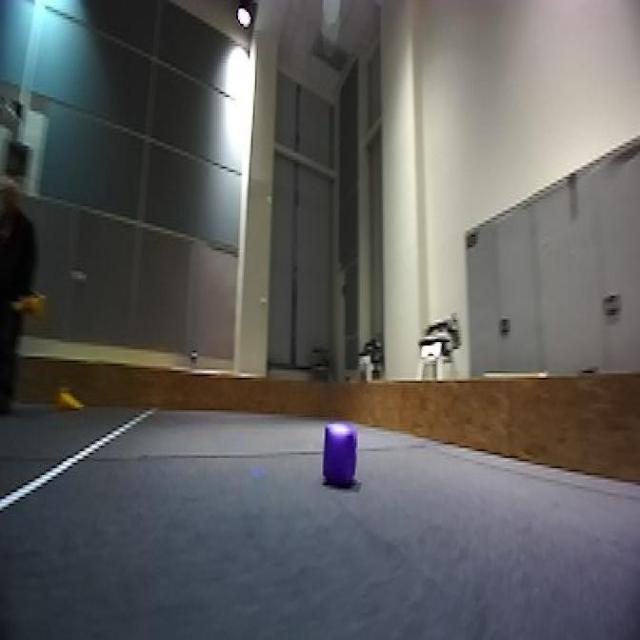frc_cone: (56, 383, 84, 414), (20, 289, 46, 320)
frc_cube: (318, 420, 360, 490)
